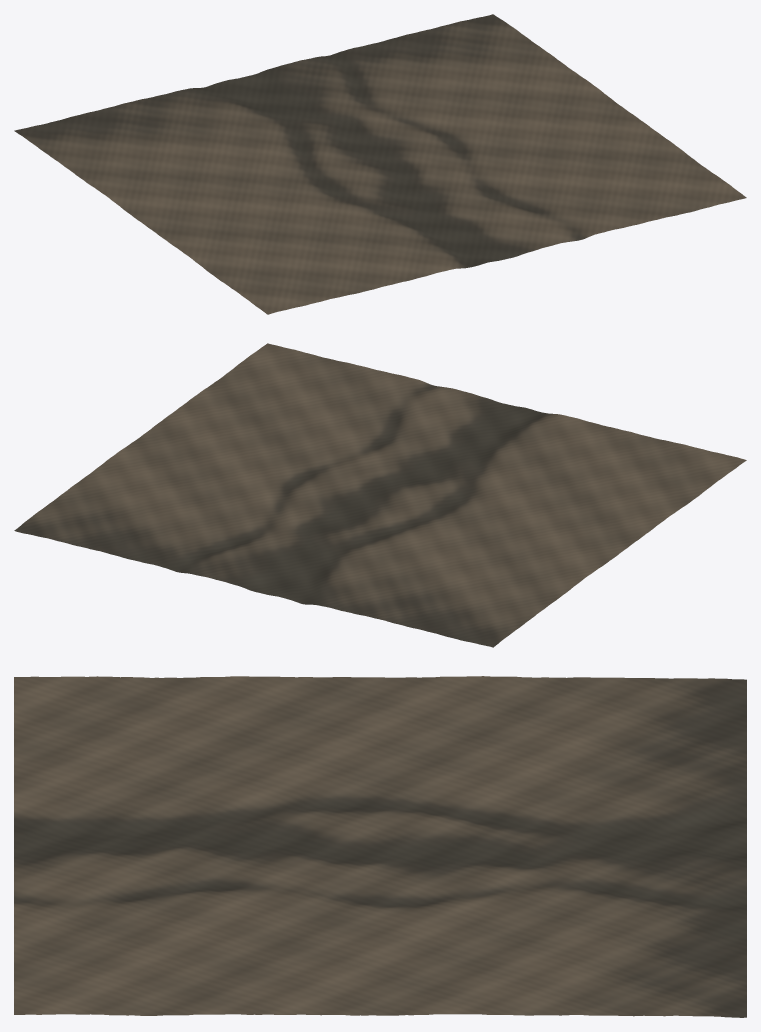
File: terrain.glb
The picture shows the model from 3 angles, top to bottom: view 1: azimuth 30°, elevation 25°; view 2: azimuth 150°, elevation 25°; view 3: azimuth 270°, elevation 25°; orthographic projection. The views are drawn at different scales.
Visible parts, largest first — view 1: Continuous wetland terrain; view 2: Continuous wetland terrain; view 3: Continuous wetland terrain.
Part boxes in pixels (bbox=[...]): Continuous wetland terrain: bbox=[14, 14, 746, 314]; Continuous wetland terrain: bbox=[14, 343, 746, 647]; Continuous wetland terrain: bbox=[14, 676, 746, 1017].
Size of the model in its own units: 240 by 2.65 by 220.
